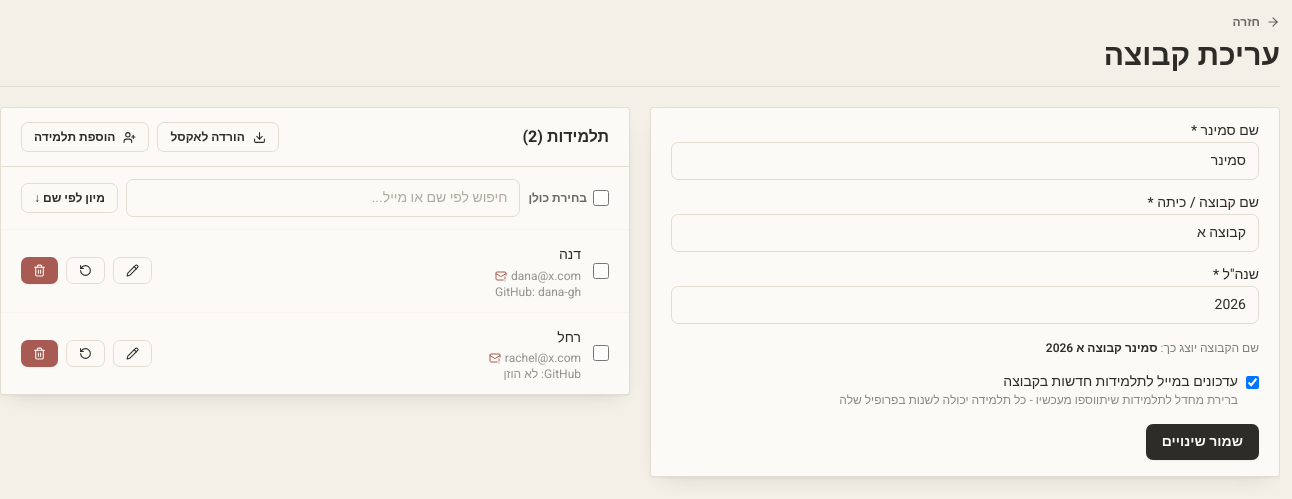
GroupFormPage (edit) › selects only the students the search found, and unselects them again
Type "רחל" into the field with placeholder "חיפוש לפי שם או מייל..." at (323, 198), box [126,179,520,217]
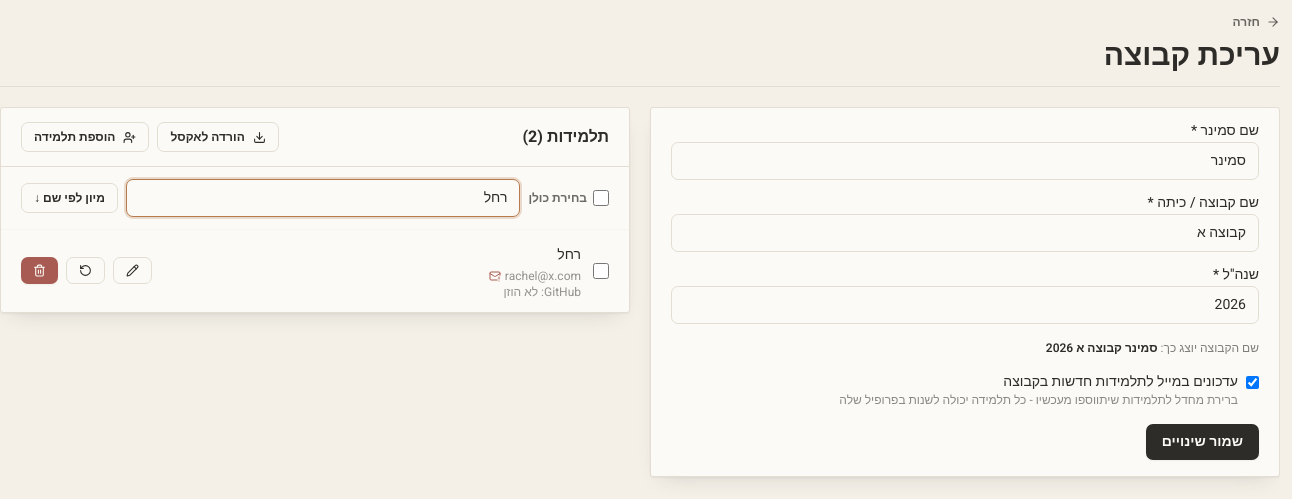
Click the checkbox labelled "בחירת כולן" at (601, 198), box [593,190,609,206]
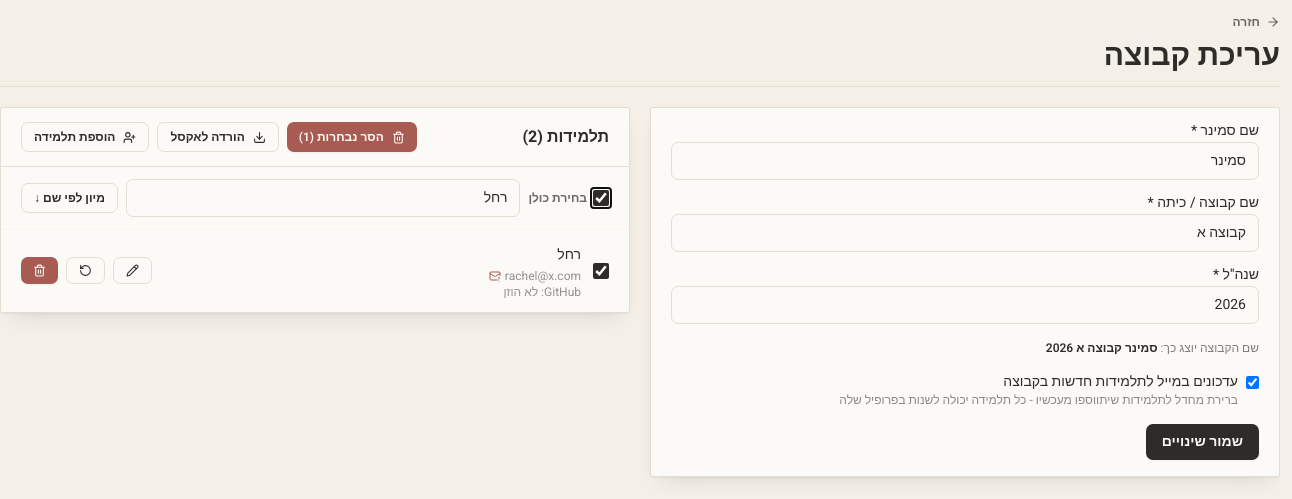
Check: the button "הסר נבחרות (1)" is shown, box [287,122,417,152]
Click the checkbox labelled "בחירת כולן" at (601, 198), box [593,190,609,206]
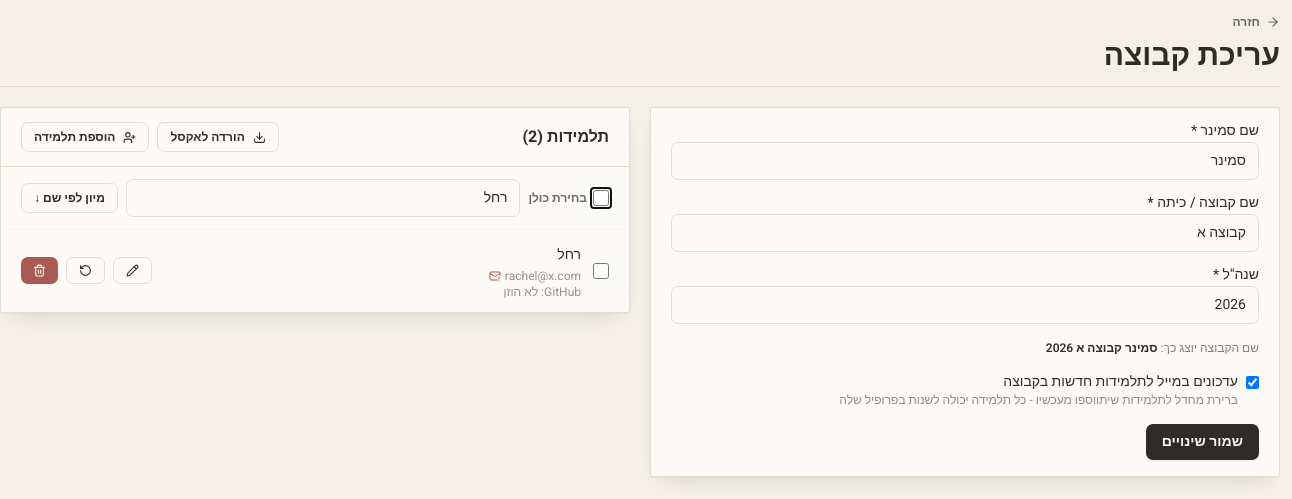
Check: the button "הסר נבחרות" is gone
